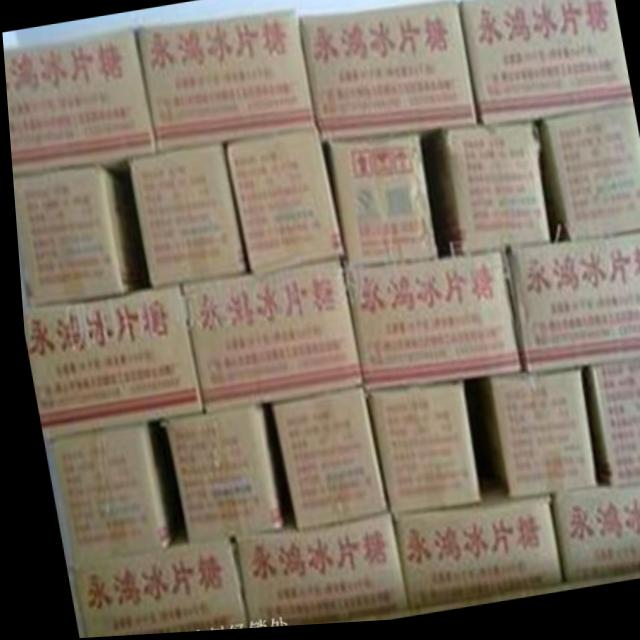box: (18, 287, 199, 441), (224, 480, 401, 631), (179, 263, 355, 413), (298, 3, 473, 145), (381, 477, 556, 618), (338, 257, 516, 395), (135, 13, 313, 150), (3, 27, 156, 177), (459, 0, 630, 131), (502, 238, 640, 380), (10, 165, 141, 306), (65, 532, 239, 638), (255, 388, 379, 533), (43, 420, 166, 562), (224, 132, 343, 276), (126, 144, 245, 288), (420, 126, 544, 263), (456, 376, 588, 503), (156, 405, 273, 543), (325, 133, 434, 270), (535, 109, 640, 245), (360, 388, 470, 517), (539, 468, 640, 592), (582, 367, 640, 491)
